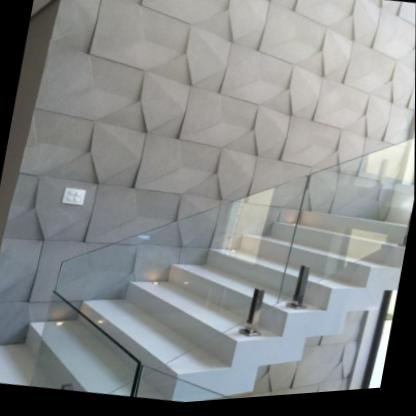Futech tiles: (96, 0, 416, 223)
